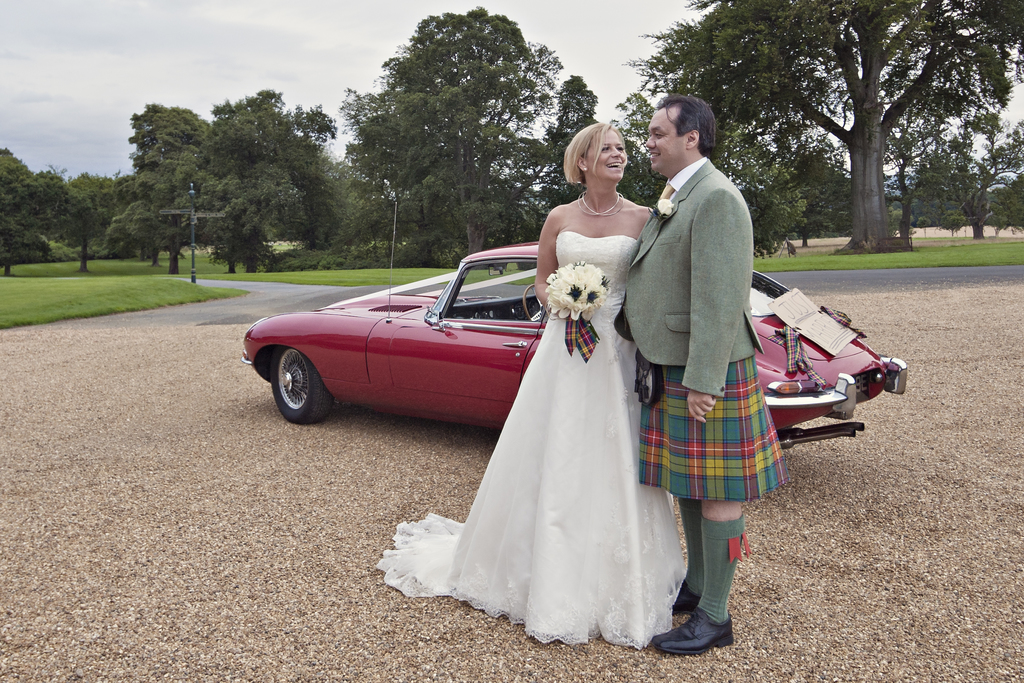Car: (241, 203, 907, 447)
